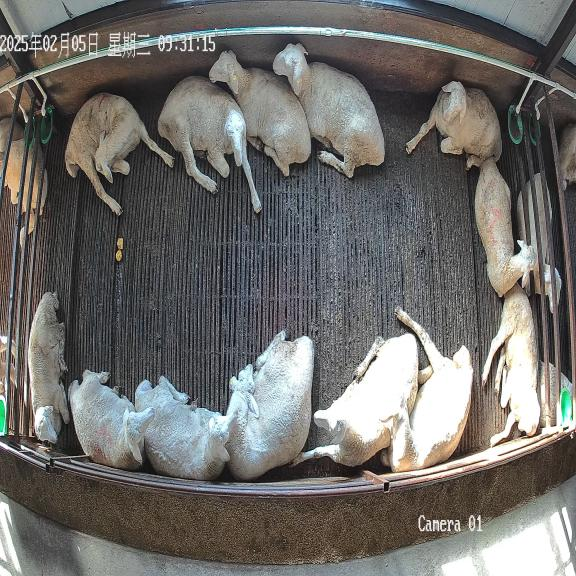lying: (291, 333, 419, 466), (273, 44, 385, 178), (381, 309, 473, 472), (158, 76, 261, 213), (65, 93, 174, 215), (226, 331, 314, 481), (210, 50, 311, 176), (135, 376, 236, 480), (482, 284, 540, 447), (475, 158, 537, 296), (69, 370, 154, 470), (406, 81, 502, 166), (28, 292, 70, 444)
